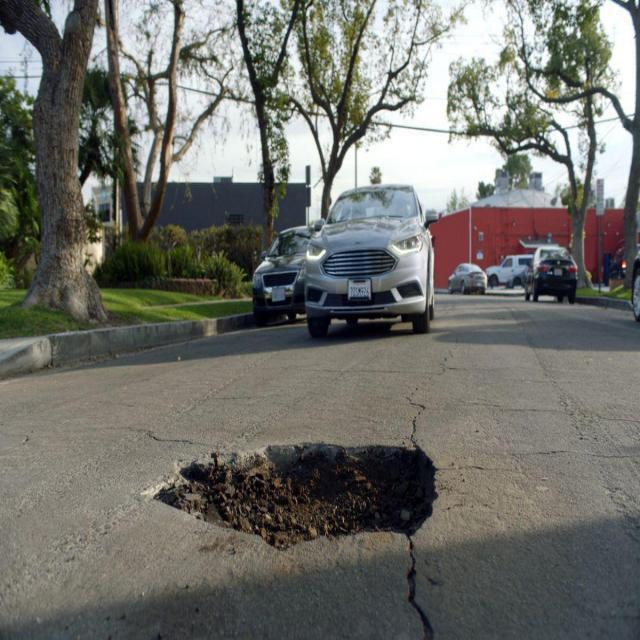Pothole: (148, 445, 437, 550)
